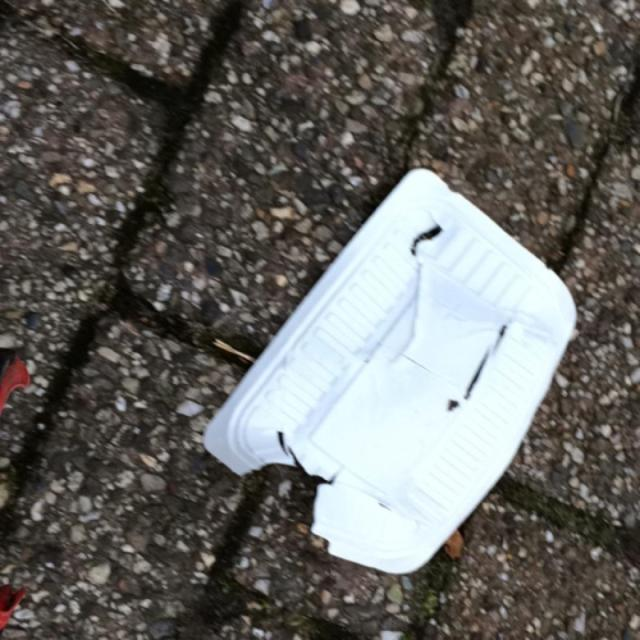Plastic: (197, 164, 580, 580)
